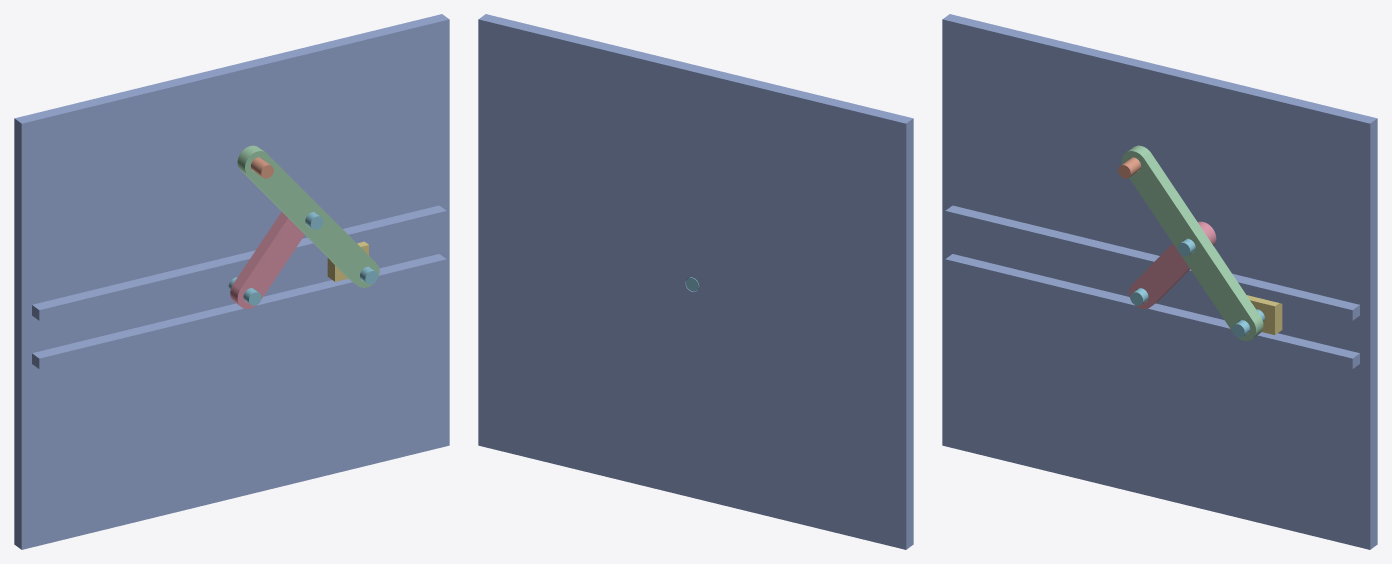
File: scott_russell_linkage_demo.glb
The picture shows the model from 3 angles, left to right: view 1: azimuth 30°, elevation 25°; view 2: azimuth 150°, elevation 25°; view 3: azimuth 330°, elevation 25°; orthographic projection.
Visible parts, largest first — view 1: base, bar, crank; view 2: base; view 3: base, bar, crank, slider.
Boxes of the visible parts, box(x1,y1,x2,y2) form: base: box(14, 14, 449, 549); bar: box(237, 145, 379, 287); crank: box(230, 212, 304, 308); base: box(478, 14, 913, 549); base: box(942, 14, 1377, 549); bar: box(1121, 145, 1263, 340); crank: box(1129, 221, 1216, 308); slider: box(1246, 295, 1282, 334).
Bounding box in the file's own units: 101 × 96 × 16.
